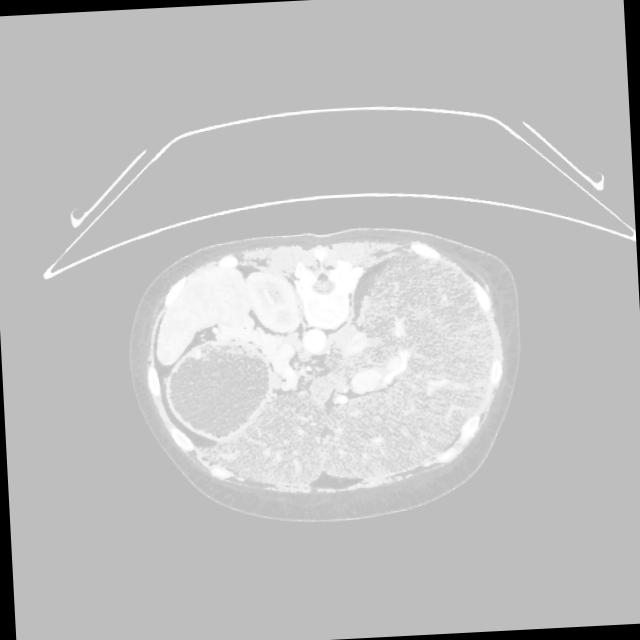NORMAL: (111, 215, 562, 538)
